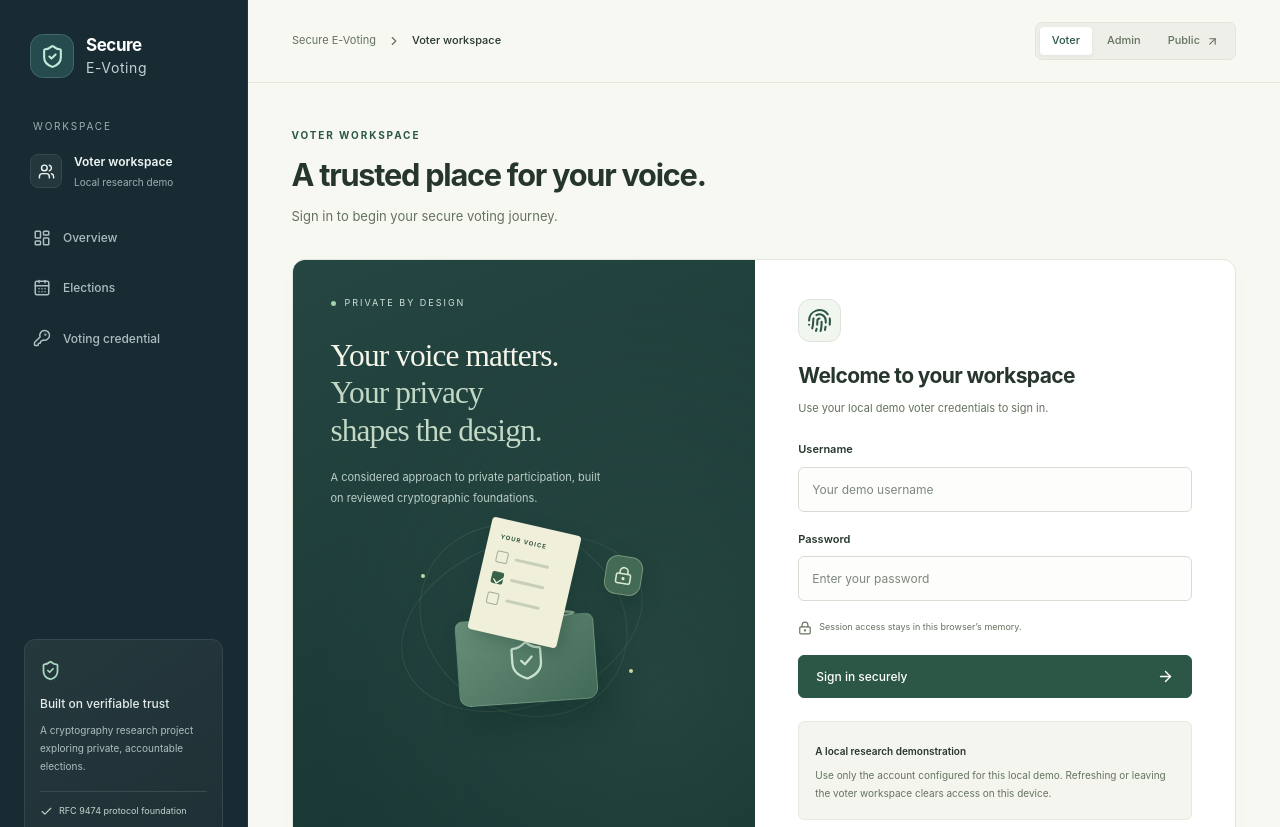
Test: voter access and state transitions › logs in, shows only verified session data and honest election availability, then logs out
The image size is (1280, 827).
Type "synthetic-voter" into the field labelled "Username". click: (995, 489)
box: x1=798 y1=467 x2=1192 y2=512
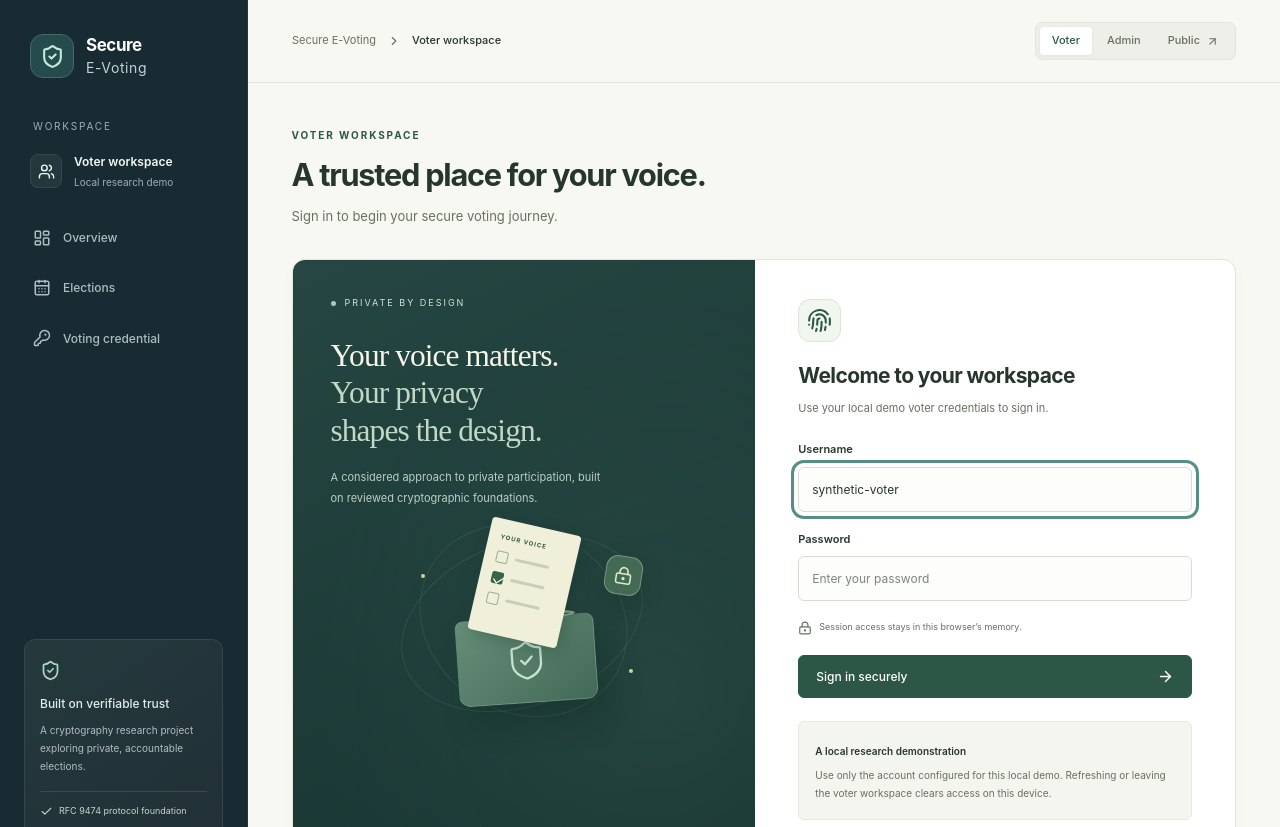
Type "synthetic-password" into the password field labelled "Password". click: (995, 579)
box: x1=798 y1=556 x2=1192 y2=601
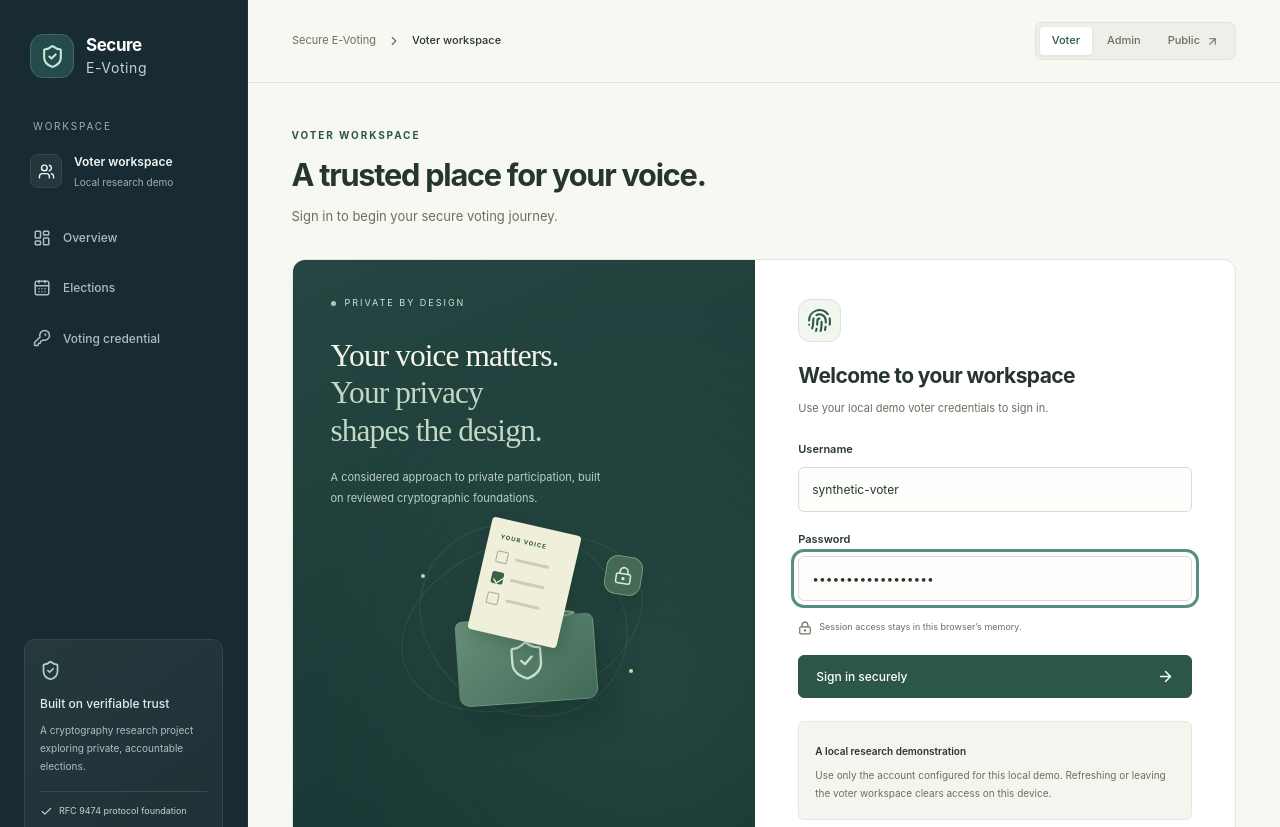
Click the button "Sign in securely". click: (862, 676)
box: x1=798 y1=655 x2=1192 y2=698
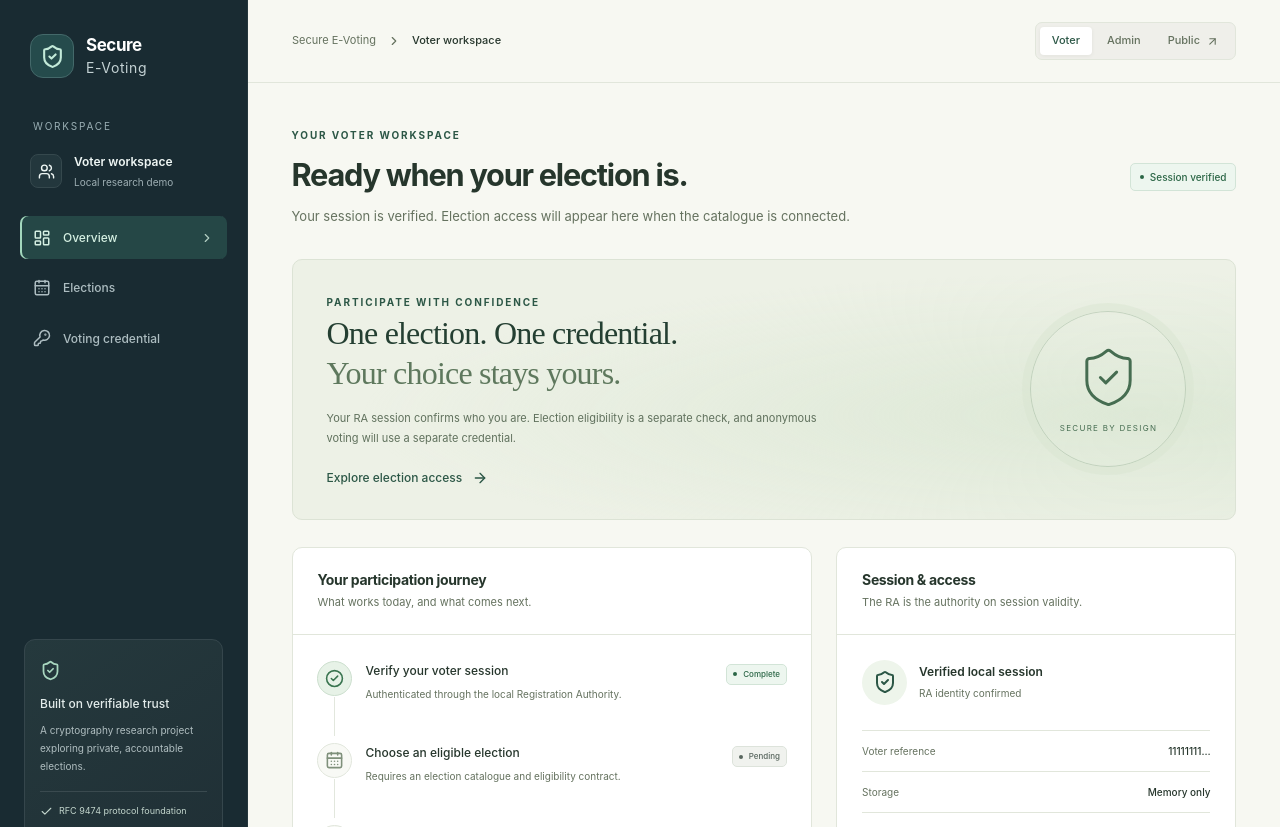
Now the heading "Ready when your election is." is shown, box x1=292 y1=156 x2=687 y2=193
Now the text "Session verified" is shown, box x1=1130 y1=163 x2=1236 y2=191
Click the link "Elections". click: (74, 288)
box: x1=33 y1=279 x2=115 y2=297
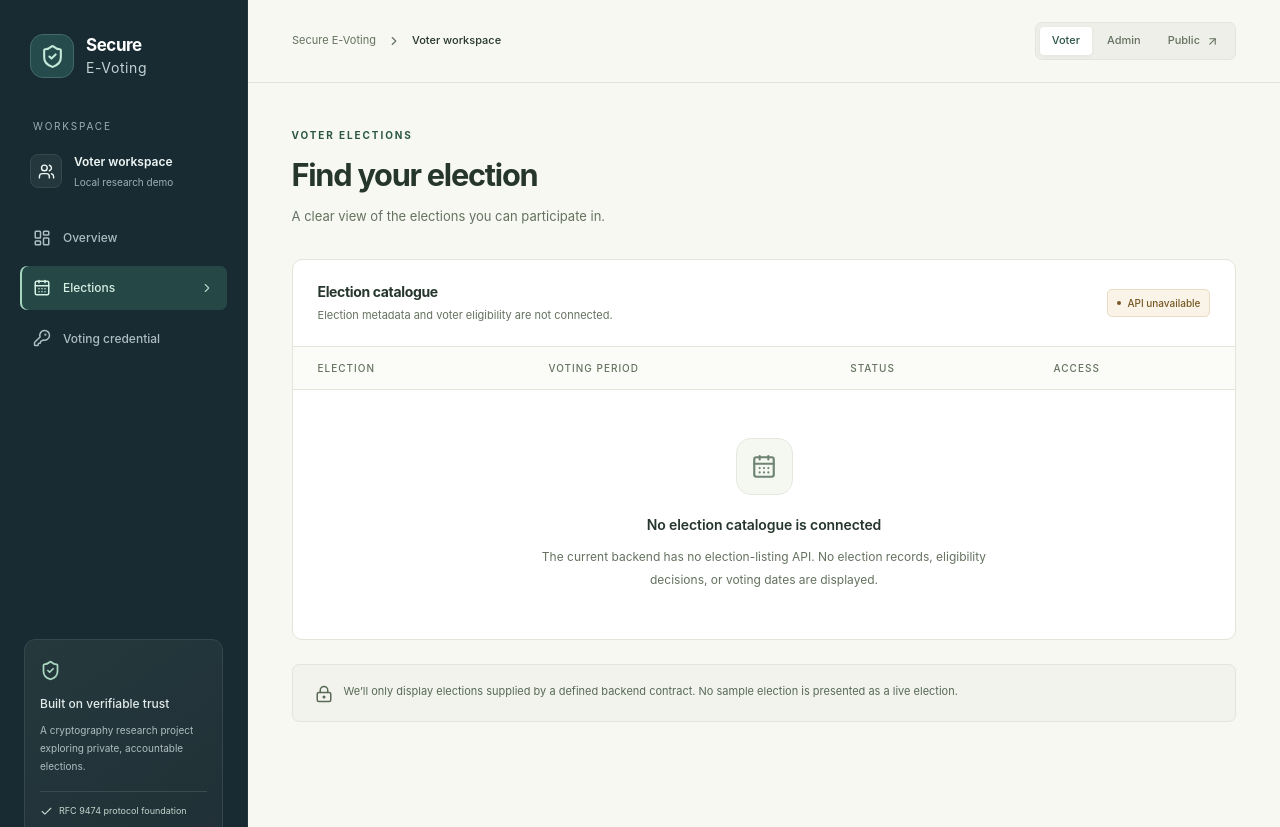
Now the heading "No election catalogue is connected" is shown, box x1=647 y1=514 x2=881 y2=537
Click the link "Overview". click: (75, 238)
box: x1=33 y1=229 x2=118 y2=247
(page scrolled)
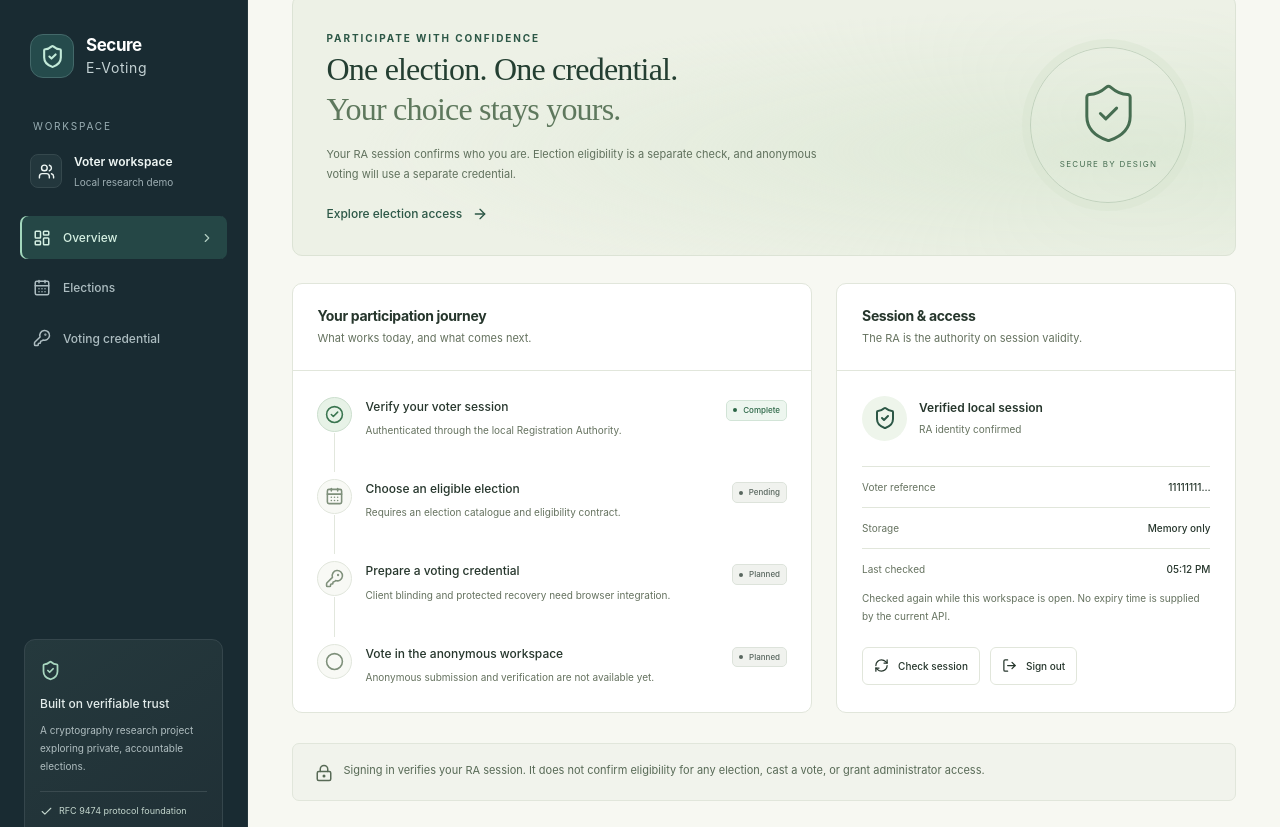
Click the button "Sign out". click: (1034, 666)
box: x1=990 y1=647 x2=1077 y2=685
(page scrolled)
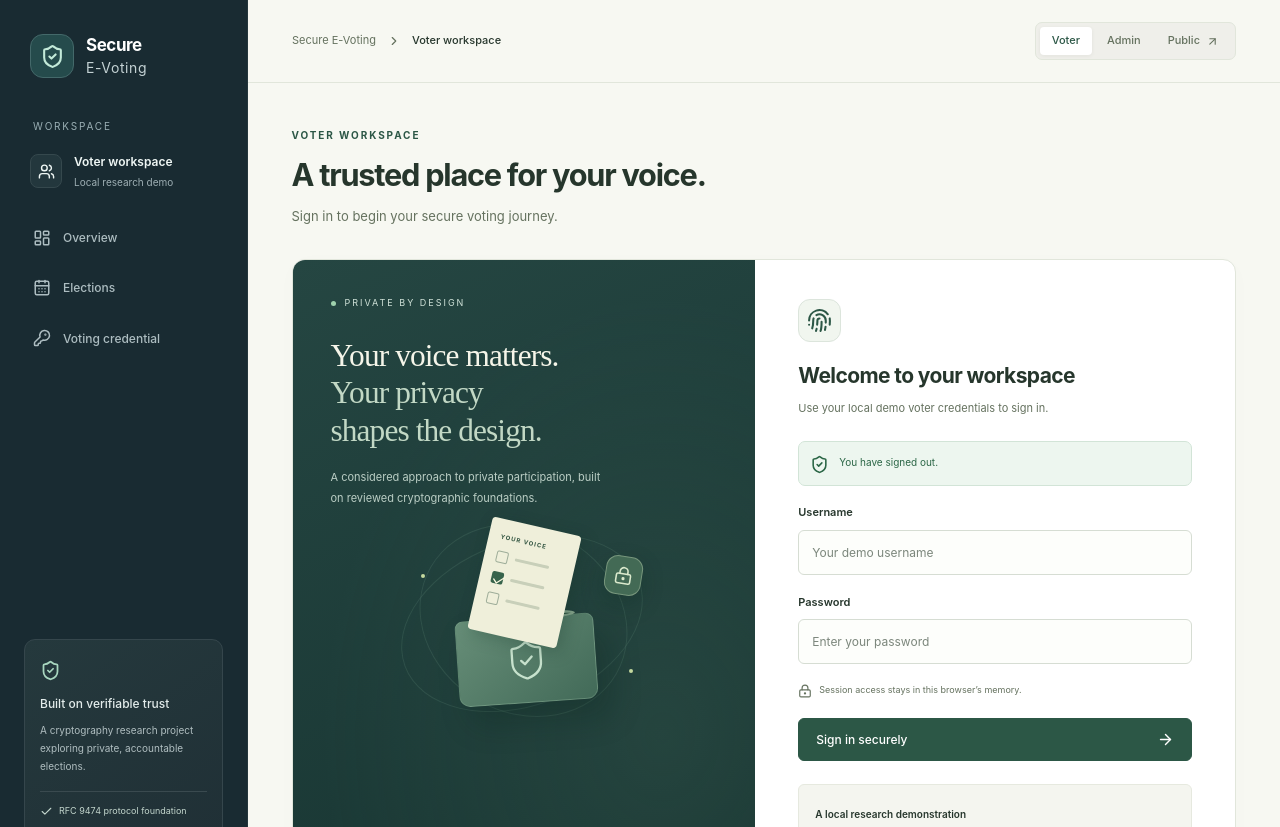
Now the text "You have signed out." is shown, box x1=839 y1=453 x2=938 y2=471
